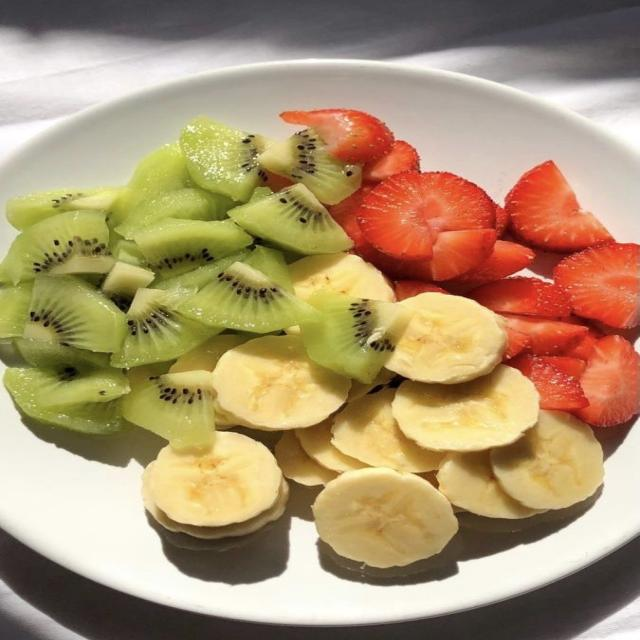banana slice: (313, 467, 457, 568), (212, 336, 350, 430), (392, 365, 538, 452), (150, 431, 283, 526), (143, 462, 288, 539), (492, 410, 603, 509), (387, 292, 506, 384), (332, 388, 443, 472), (437, 450, 542, 519), (289, 253, 394, 301), (294, 419, 368, 473), (274, 431, 338, 486), (154, 521, 261, 551), (170, 334, 245, 372)
kiwi: (300, 291, 409, 383), (181, 262, 318, 333), (230, 184, 352, 254), (111, 288, 215, 367), (4, 368, 127, 434), (2, 212, 113, 283), (16, 339, 128, 409), (258, 129, 361, 204), (24, 276, 125, 352), (122, 368, 215, 447), (181, 116, 263, 202), (110, 143, 193, 227), (134, 220, 252, 279), (115, 188, 234, 239), (6, 188, 119, 230), (34, 365, 129, 409), (154, 249, 250, 290), (169, 334, 255, 372), (15, 339, 109, 370), (102, 262, 154, 312), (242, 247, 293, 292), (0, 282, 32, 338), (111, 238, 146, 267), (249, 187, 273, 202)
strawberry sliced: (357, 173, 494, 260), (505, 160, 613, 253), (554, 242, 638, 328), (280, 108, 393, 163), (575, 336, 639, 426), (511, 355, 587, 410), (468, 277, 569, 317), (450, 240, 534, 285), (425, 229, 495, 281), (503, 315, 587, 355), (364, 140, 419, 182)
